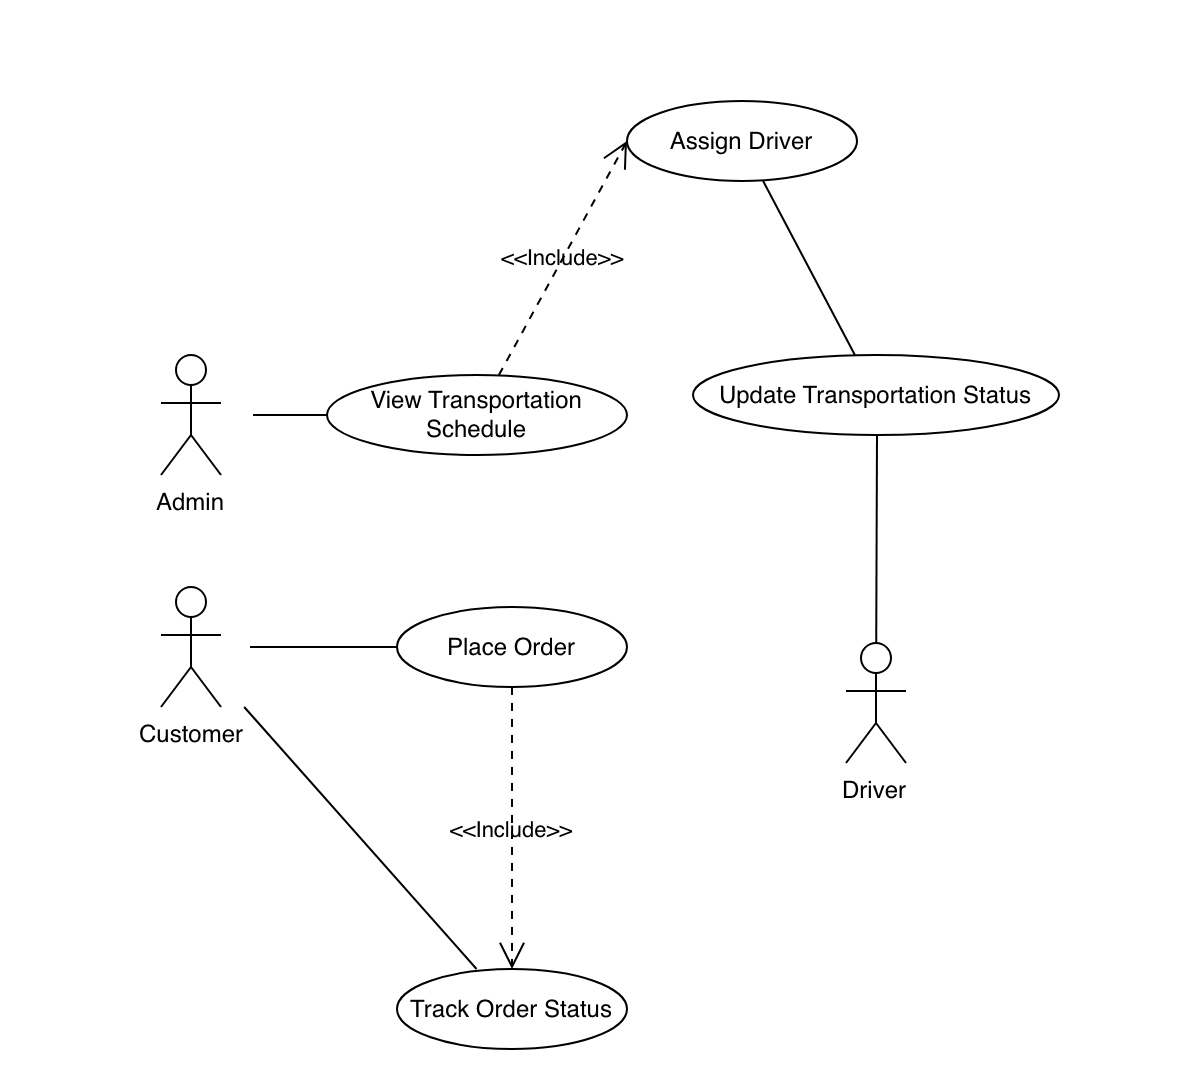actor: (155, 584, 229, 708), (841, 642, 913, 767), (157, 353, 224, 483)
association: (243, 707, 475, 970), (499, 139, 629, 374), (760, 179, 854, 357), (502, 688, 525, 967), (240, 629, 400, 659), (868, 433, 885, 646), (245, 398, 328, 426)
text: (365, 387, 583, 441), (707, 379, 1033, 412), (408, 993, 618, 1029), (663, 128, 812, 165), (135, 719, 253, 752), (450, 817, 576, 844), (443, 636, 579, 660), (486, 250, 630, 270), (837, 769, 909, 806), (155, 487, 227, 516)
use_case: (690, 353, 1062, 433), (323, 373, 629, 453), (392, 605, 628, 689), (394, 969, 632, 1051), (629, 98, 859, 177)
